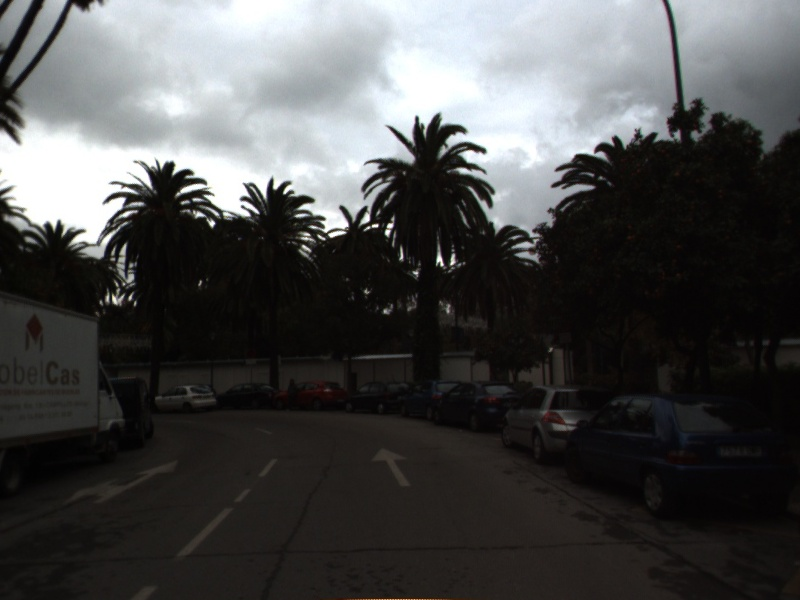STRAIGHT: (369, 445, 413, 488)
STRAIGHT_LEFT: (60, 458, 180, 508)
